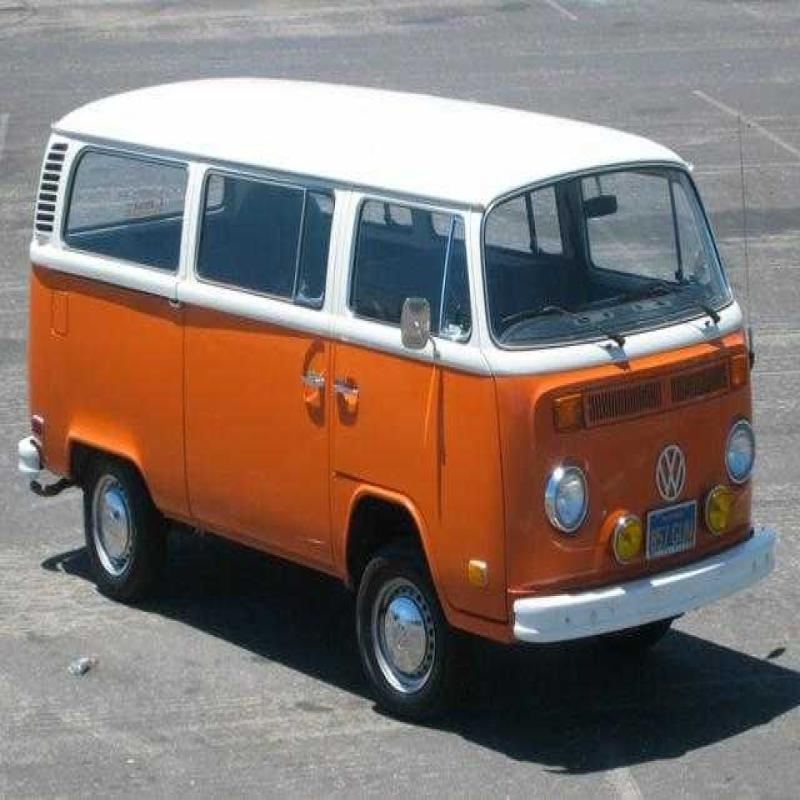bus: (35, 36, 772, 740)
